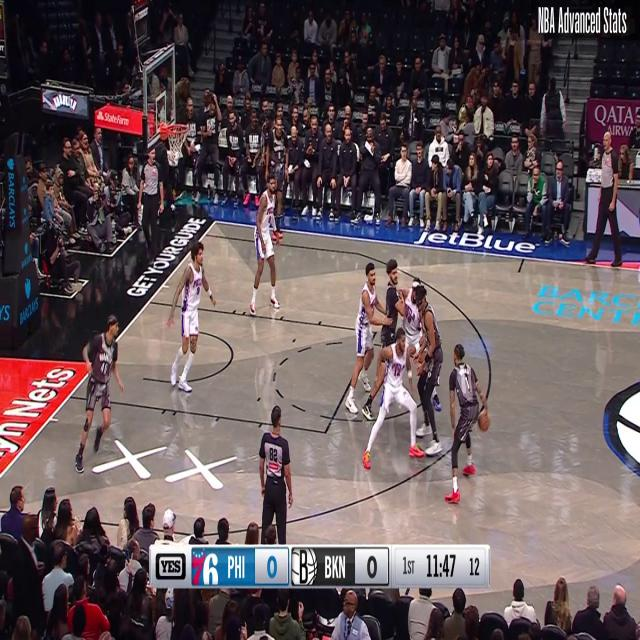ball: (477, 403, 491, 438)
player: (360, 325, 426, 472), (73, 312, 125, 476), (165, 239, 218, 395), (443, 341, 491, 506), (342, 258, 378, 415), (368, 260, 404, 410), (415, 288, 447, 454), (248, 171, 284, 317), (263, 113, 289, 230)
